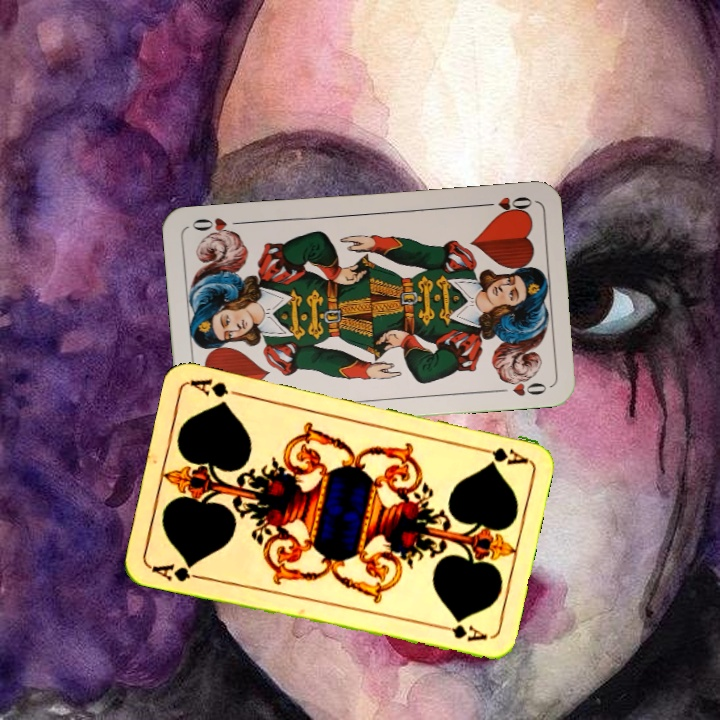GA: (147, 559, 207, 585), (471, 442, 529, 467)
HO: (476, 192, 535, 216)
